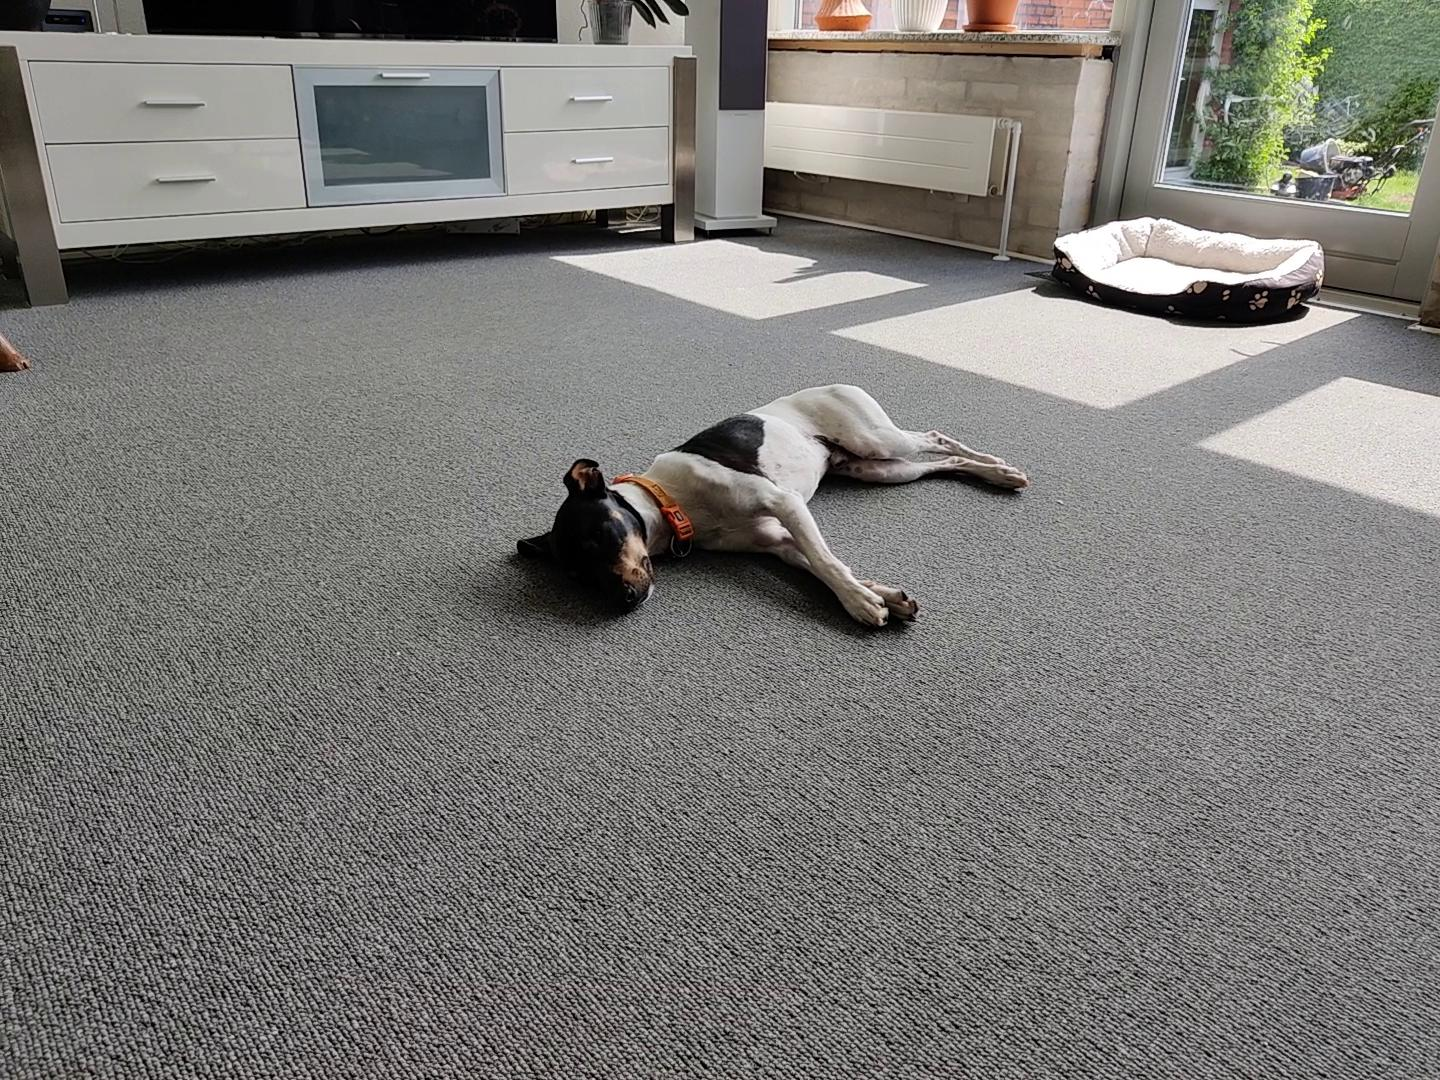Dog: (513, 380, 1034, 628)
